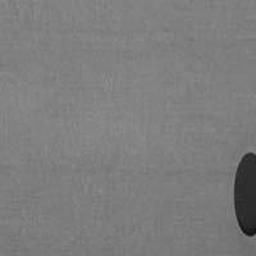Punching: (234, 153, 256, 237)
